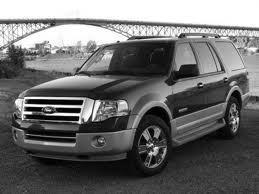car: (12, 33, 254, 173)
